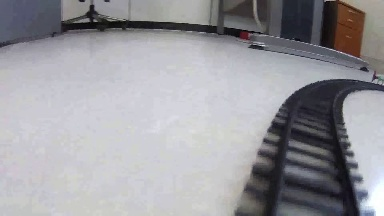tree: (368, 70, 384, 92)
